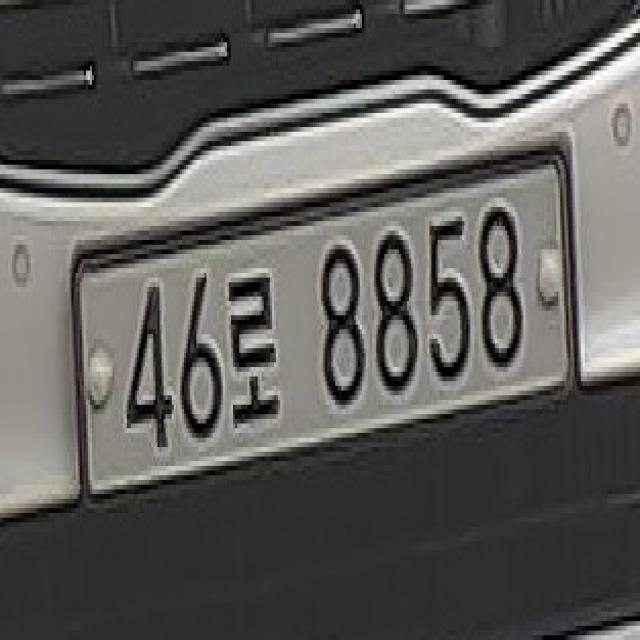4: (118, 274, 176, 468)
5: (427, 216, 478, 401)
6: (180, 264, 228, 472)
8: (474, 198, 534, 386), (369, 224, 424, 406), (315, 246, 369, 414)
license_plate: (63, 96, 600, 547)
lo: (228, 256, 285, 452)
